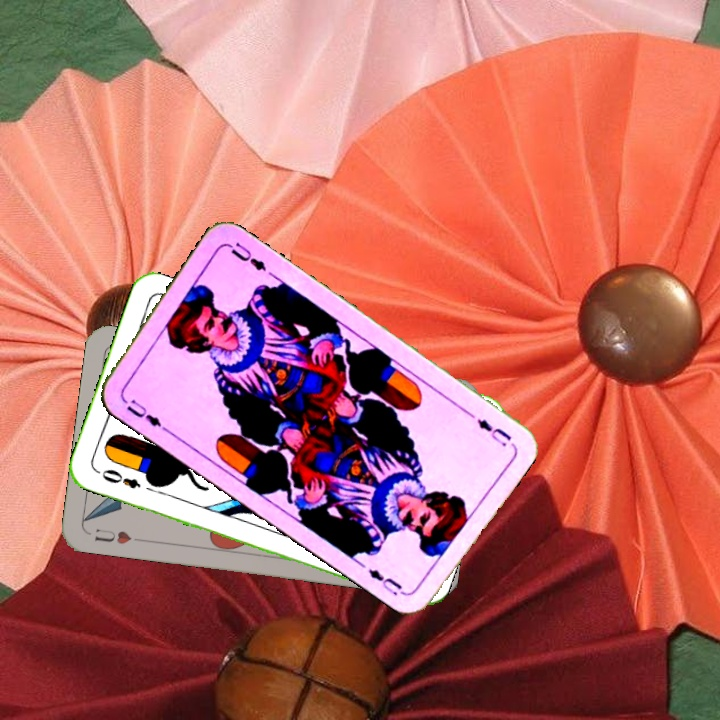EO: (92, 465, 144, 492)
EU: (119, 395, 171, 434), (473, 414, 514, 449)
HU: (91, 524, 135, 547)
